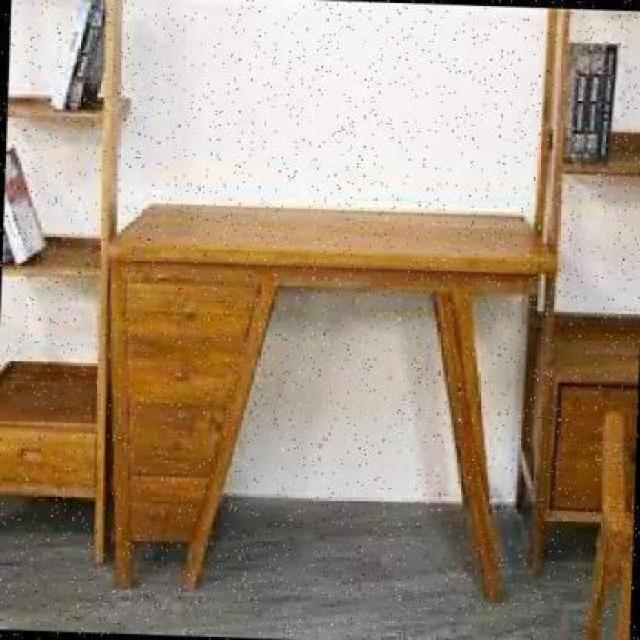tables: (106, 202, 557, 602)
